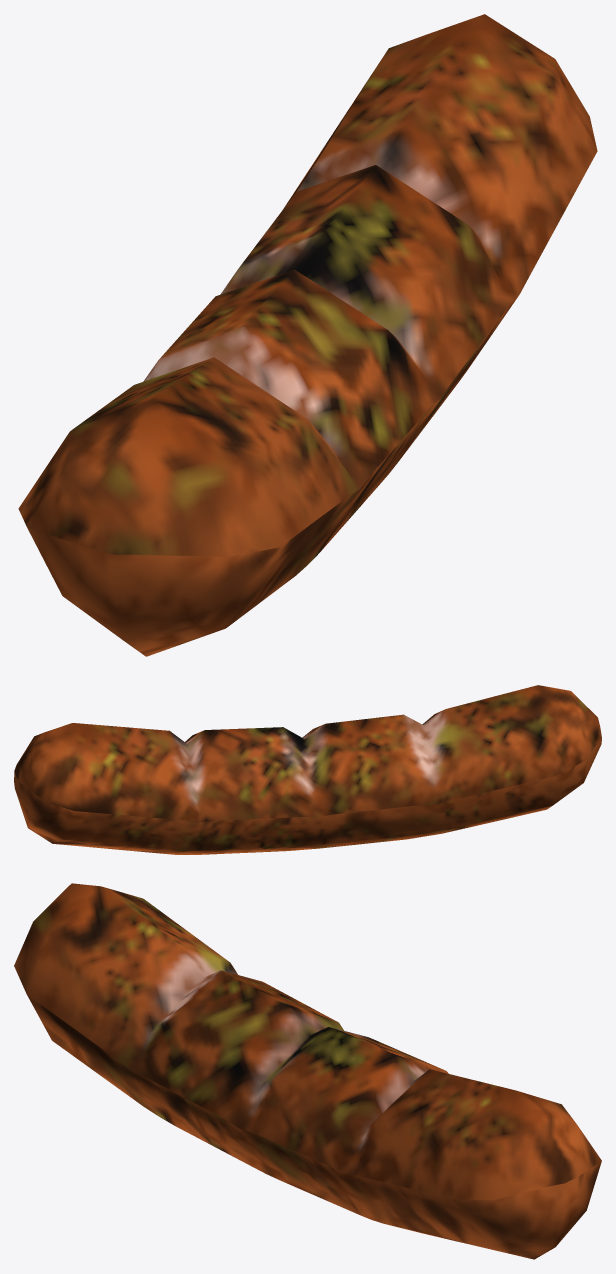
The model's file is Sausage.fbx.
3 renders of one model, top to bottom at view 1: azimuth 30°, elevation 25°; view 2: azimuth 150°, elevation 25°; view 3: azimuth 270°, elevation 25°, orthographic. The views are drawn at different scales.
Parts seen in each view (by area): view 1: pCylinder1; view 2: pCylinder1; view 3: pCylinder1.
Boxes of the visible parts, x1=… form: pCylinder1: x1=18, y1=14, x2=597, y2=656; pCylinder1: x1=14, y1=685, x2=601, y2=854; pCylinder1: x1=14, y1=883, x2=601, y2=1259.
Size of the model in its own units: 16.52 by 14.92 by 5.48.
Materials: 1 (1 with a texture image).
